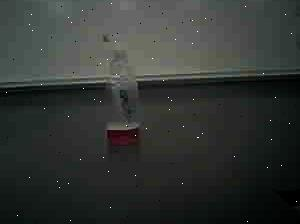hazard: (90, 21, 156, 152)
